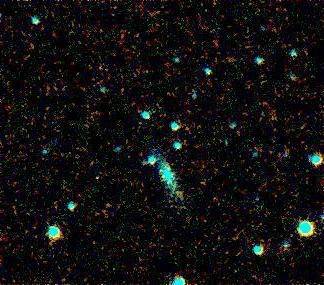star: (80, 167, 110, 197)
